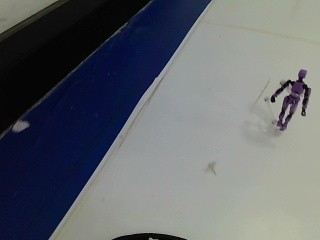pedestrian: (266, 60, 313, 145)
